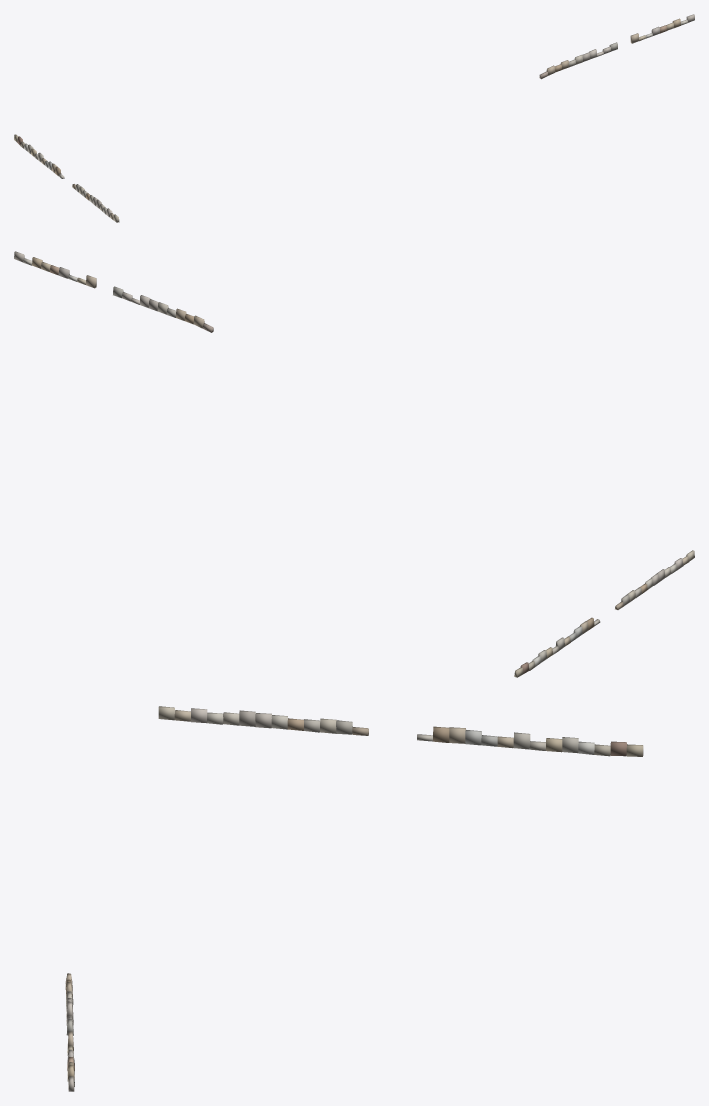
The model's file is farm_-12_6_far.glb.
The picture shows the model from 3 angles, top to bottom: view 1: azimuth 30°, elevation 25°; view 2: azimuth 150°, elevation 25°; view 3: azimuth 270°, elevation 25°; orthographic projection. The views are drawn at different scales.
Parts seen in each view (by area): view 1: geometry_0; view 2: geometry_0; view 3: geometry_0.
Part boxes in pixels (box(x1,y1,x2,y2)): geometry_0: box(14, 14, 694, 222); geometry_0: box(14, 251, 694, 677); geometry_0: box(65, 706, 643, 1091).
Bounding box in the file's own units: 125 × 21.29 × 56.36.
